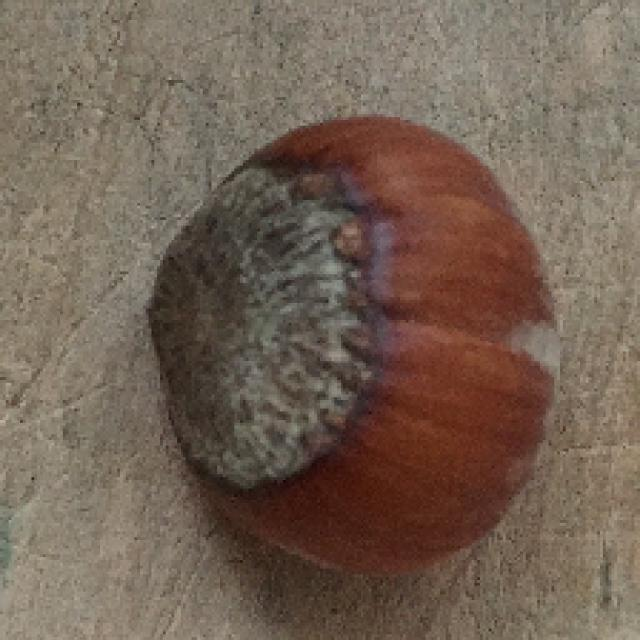qualityHazelnut: (160, 113, 562, 576)
